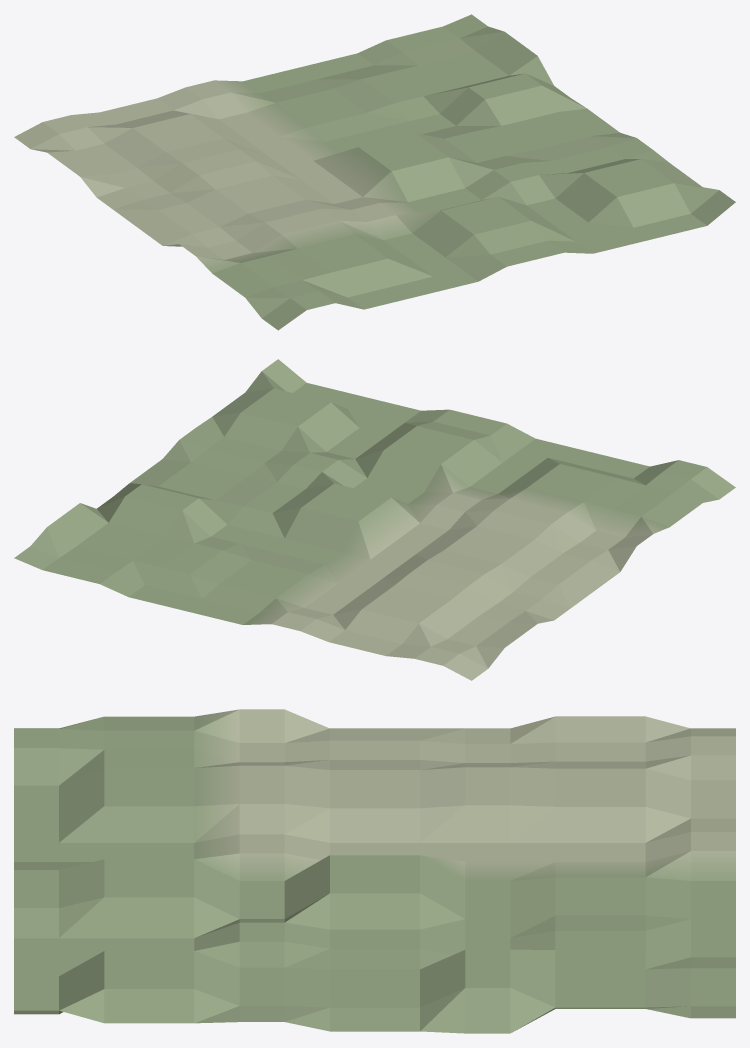
3 views of the same model, one above another, from view 1: azimuth 30°, elevation 25°; view 2: azimuth 150°, elevation 25°; view 3: azimuth 270°, elevation 25° (orthographic). The views are drawn at different scales.
Bounding box in the file's own units: 32 × 1.3 × 32.
